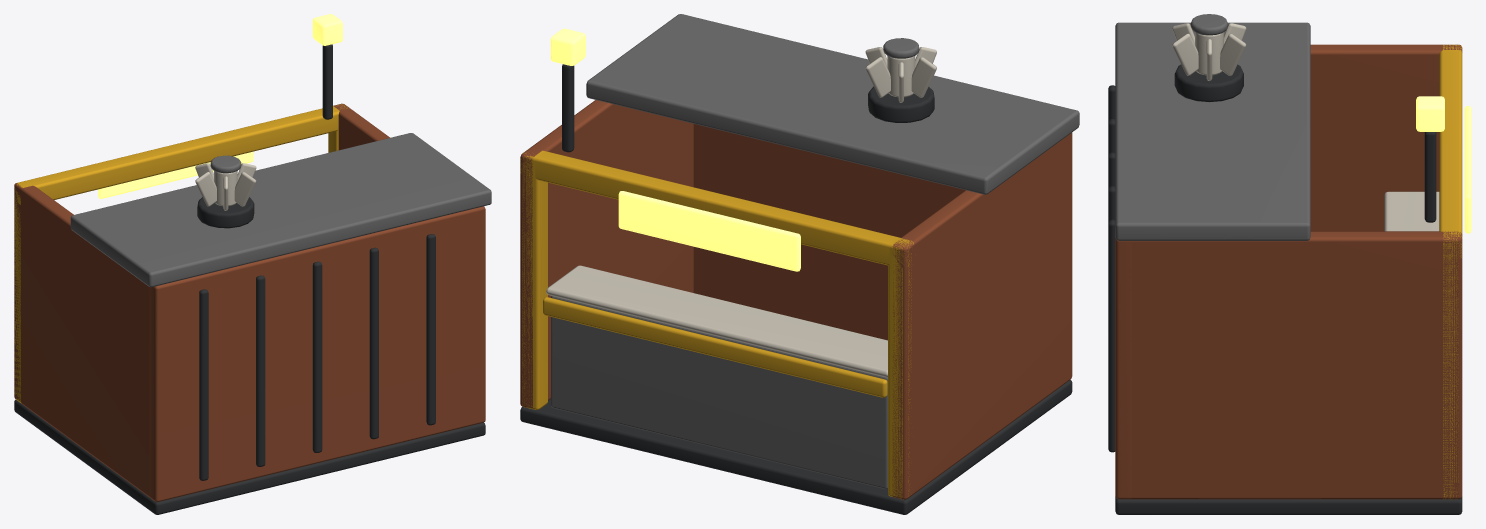
The model's file is shop.glb.
3 renders of one model, left to right at view 1: azimuth 30°, elevation 25°; view 2: azimuth 150°, elevation 25°; view 3: azimuth 270°, elevation 25°, orthographic. The views are drawn at different scales.
Parts seen in each view (by area): view 1: shop, joint_vent; view 2: shop, joint_vent; view 3: shop, joint_vent.
Boxes of the visible parts, <box> form: shop: <box>14,14,491,514</box>; joint_vent: <box>195,155,256,210</box>; shop: <box>520,14,1079,514</box>; joint_vent: <box>865,38,936,102</box>; shop: <box>1108,22,1471,514</box>; joint_vent: <box>1172,14,1246,80</box>.
Size of the model in its own units: 3.32 by 3.04 by 2.51.
